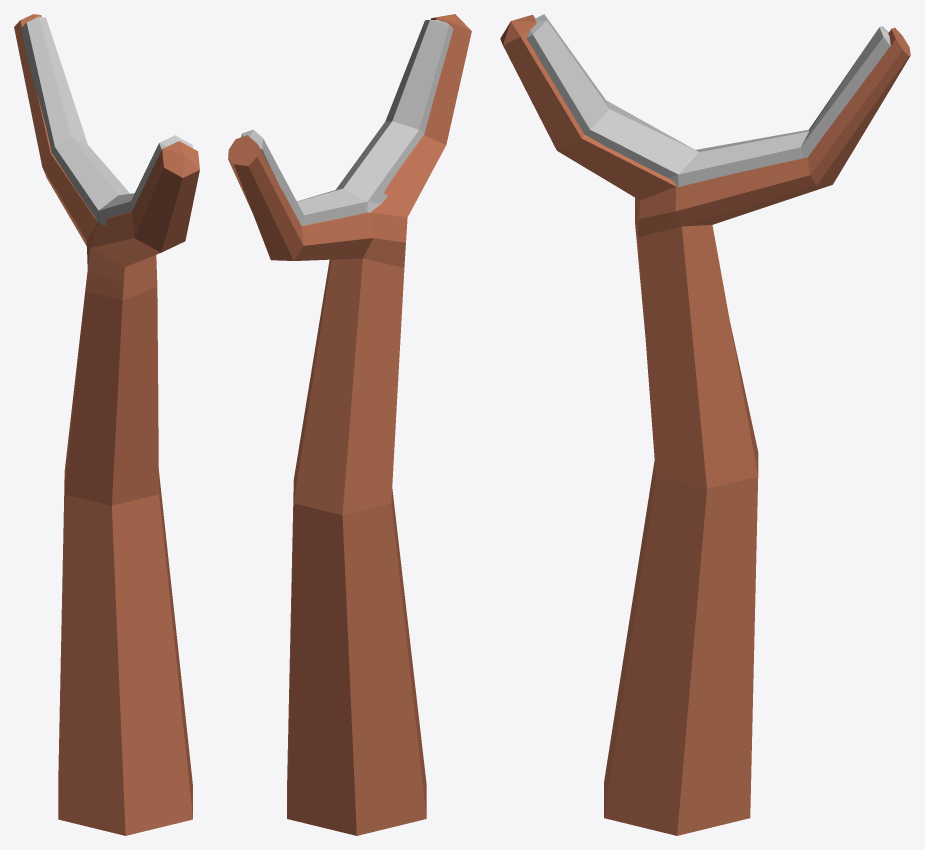
The model's file is Tree_07_winter_vc.fbx.
The picture shows the model from 3 angles, left to right: view 1: azimuth 30°, elevation 25°; view 2: azimuth 150°, elevation 25°; view 3: azimuth 270°, elevation 25°; orthographic projection. The views are drawn at different scales.
Visible parts, largest first — view 1: Tree_07_winter_vc; view 2: Tree_07_winter_vc; view 3: Tree_07_winter_vc.
Boxes of the visible parts, <box> form: Tree_07_winter_vc: <box>14,14,199,835</box>; Tree_07_winter_vc: <box>228,14,471,835</box>; Tree_07_winter_vc: <box>500,14,910,835</box>.
Size of the model in its own units: 0.8689 by 4.41 by 2.11.
